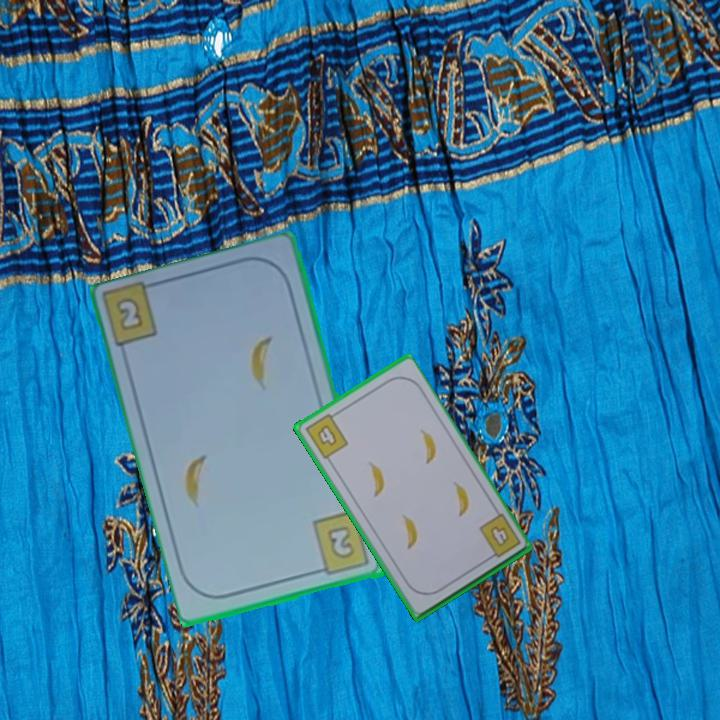2b: (309, 508, 373, 579), (112, 294, 147, 335)
4b: (301, 408, 351, 462), (475, 510, 524, 564)
